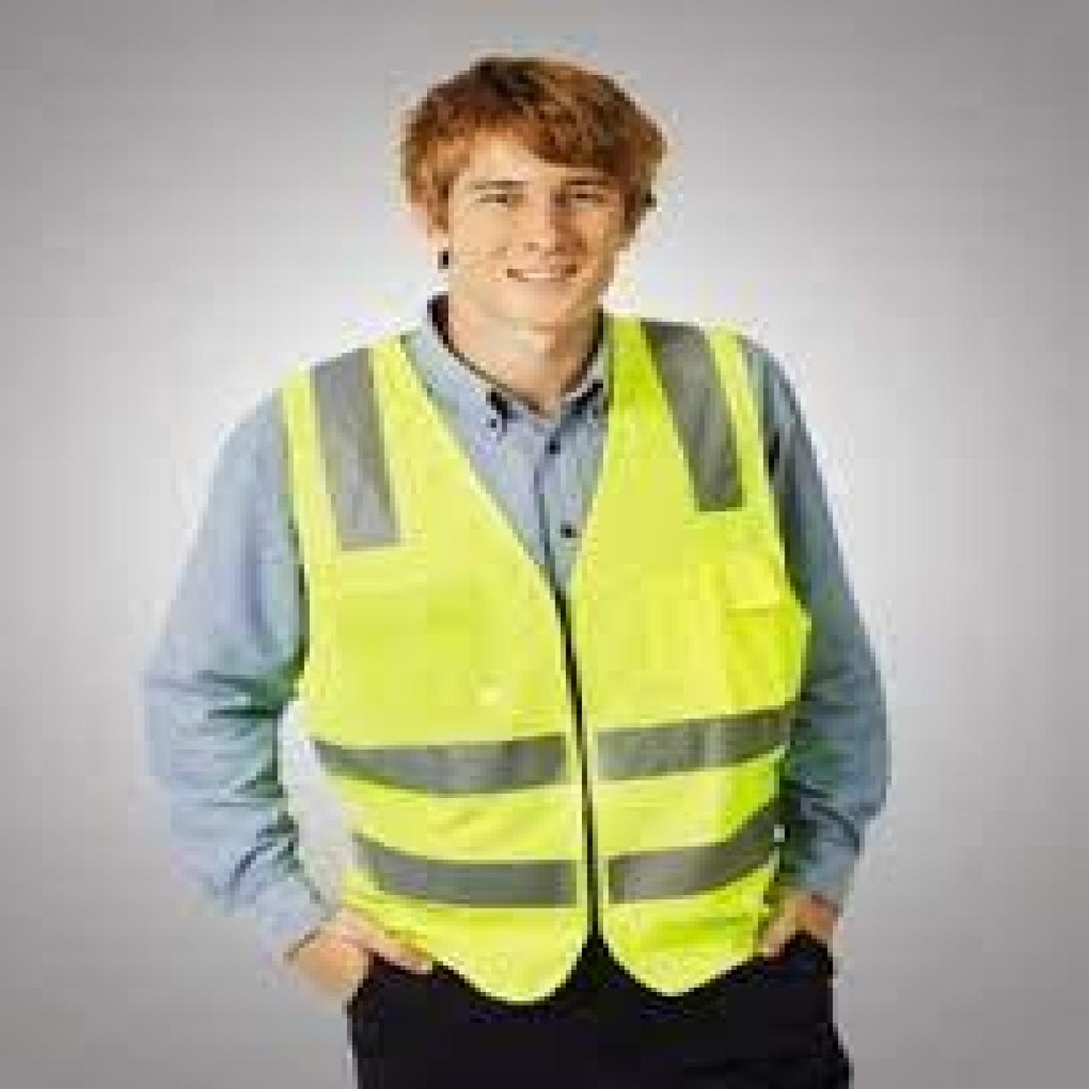Person: (119, 38, 927, 1089)
Safety_Vest: (267, 314, 868, 999)
